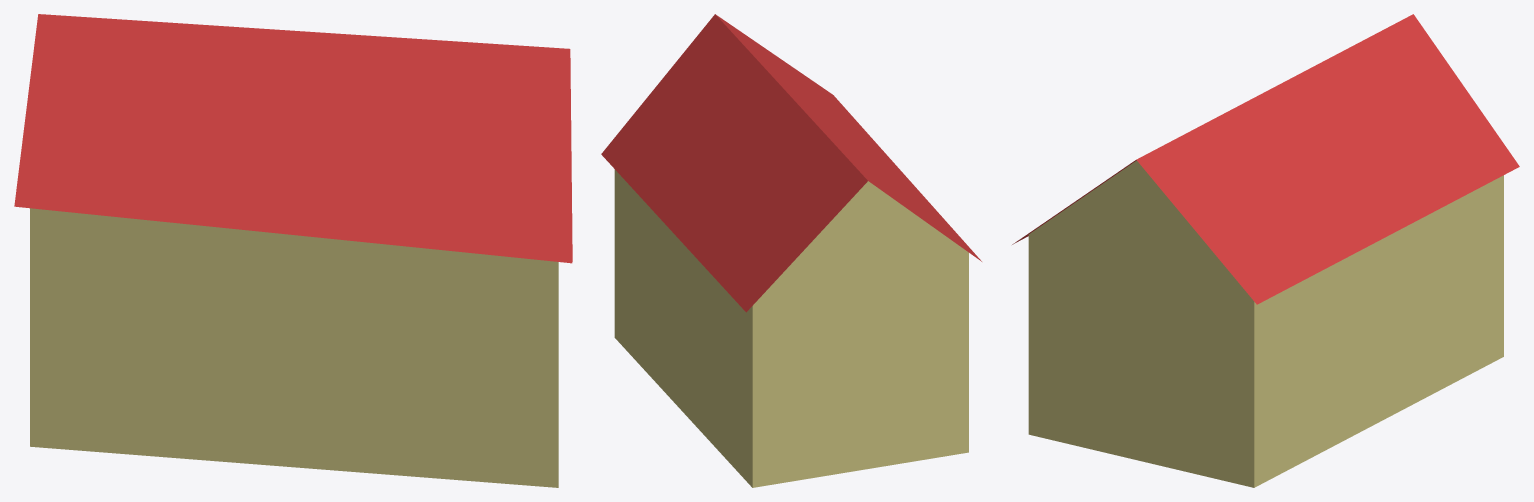
3 views of the same model, side by side, from view 1: azimuth 30°, elevation 25°; view 2: azimuth 150°, elevation 25°; view 3: azimuth 270°, elevation 25° (orthographic). The views are drawn at different scales.
Size of the model in its own units: 21.62 by 22.32 by 14.8.
